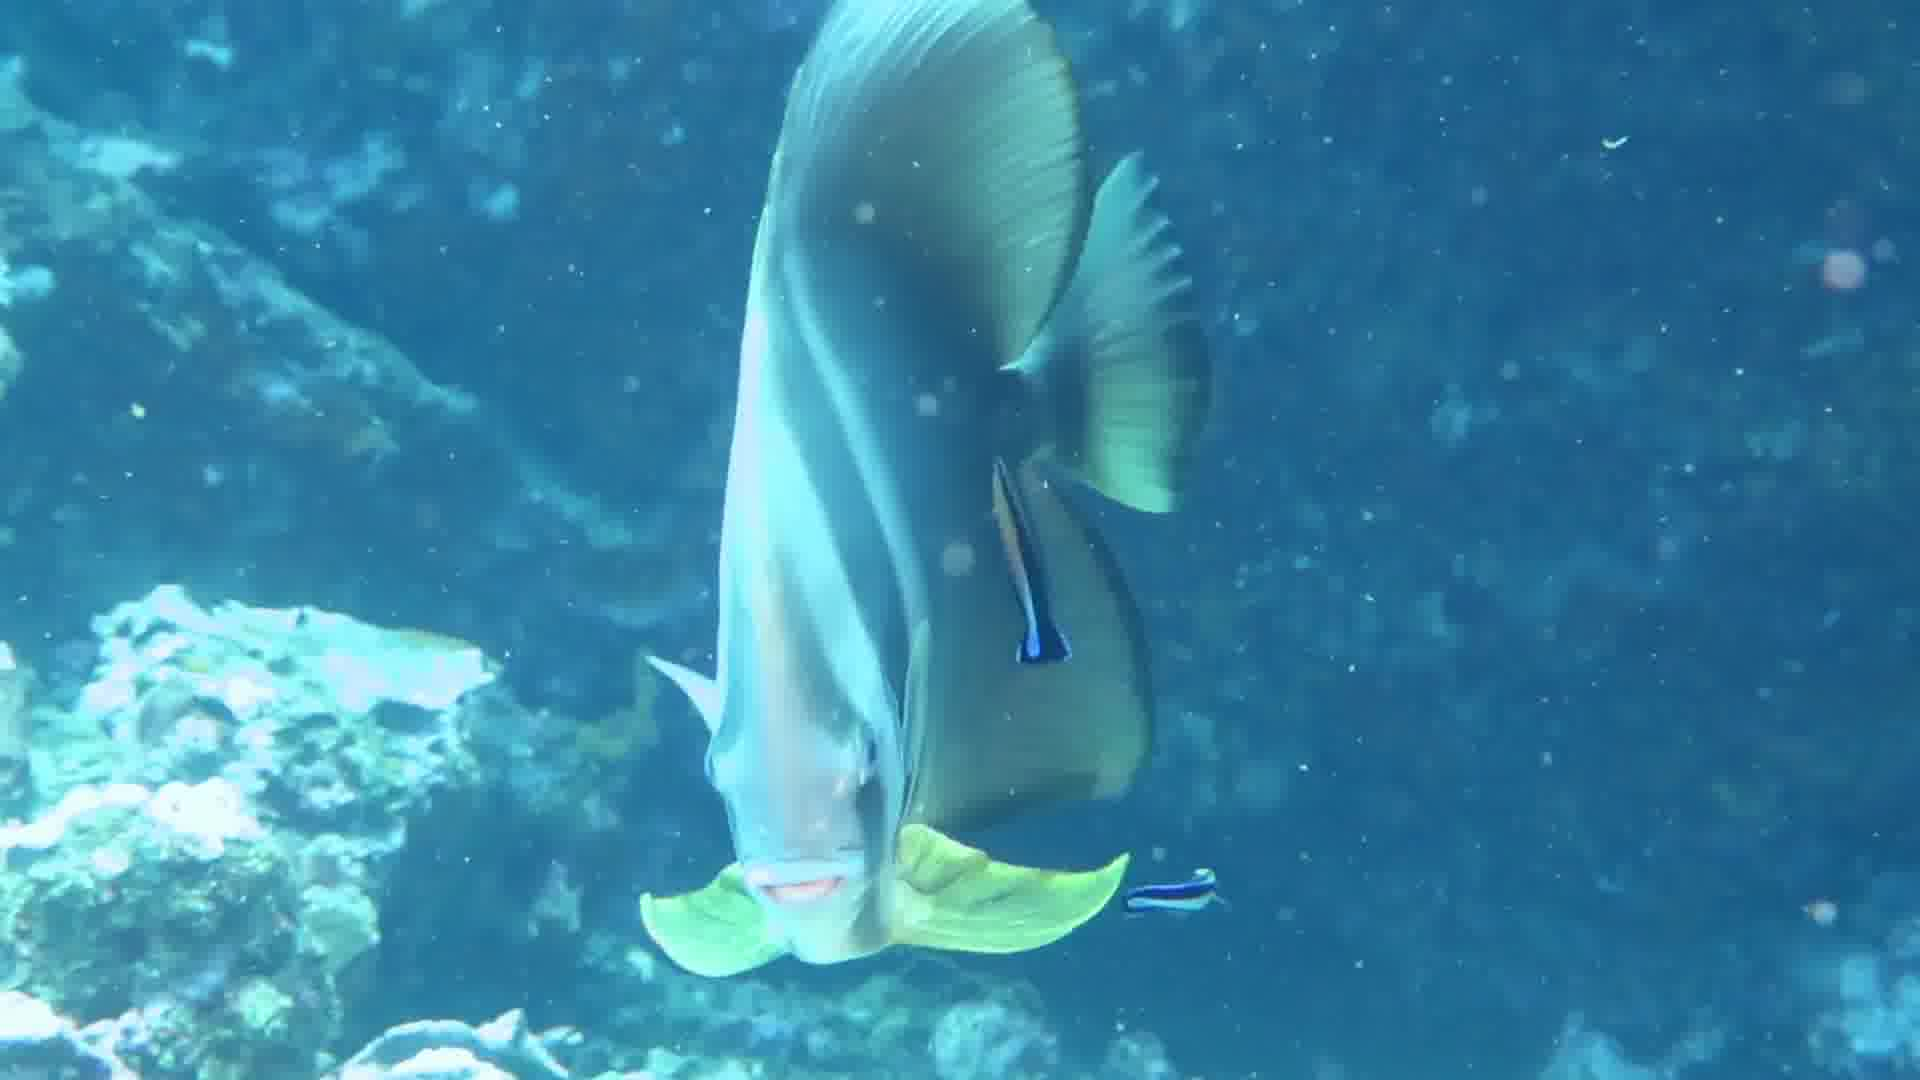Platax teira: (502, 20, 1327, 1065)
